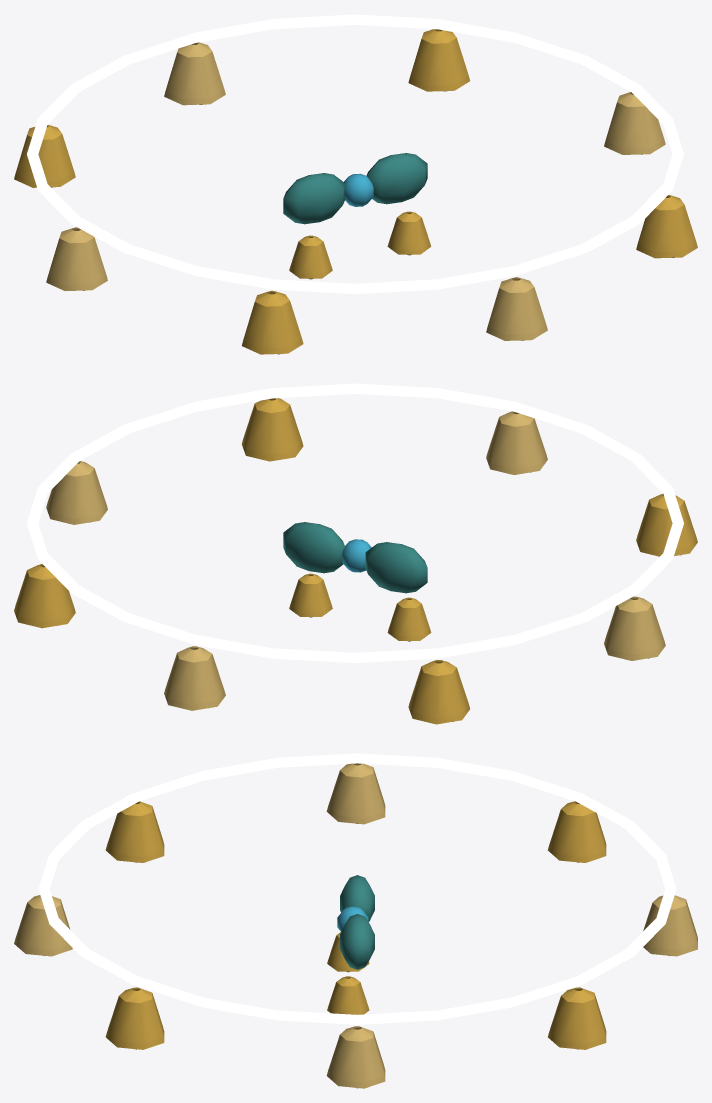
The model's file is suzu_p1.glb.
3 renders of one model, top to bottom at view 1: azimuth 30°, elevation 25°; view 2: azimuth 150°, elevation 25°; view 3: azimuth 270°, elevation 25°, orthographic. The views are drawn at different scales.
Visible parts, largest first — view 1: p1_bells_body, p1_bells_glow, p1_ribbons_body; view 2: p1_bells_body, p1_bells_glow, p1_ribbons_body; view 3: p1_bells_body, p1_bells_glow, p1_ribbons_body.
Part boxes in pixels (x1,y1,x2,y2): p1_bells_body: (14, 29, 697, 354); p1_bells_glow: (27, 14, 683, 294); p1_ribbons_body: (283, 153, 431, 279); p1_bells_body: (14, 398, 697, 724); p1_bells_glow: (27, 383, 683, 663); p1_ribbons_body: (283, 522, 431, 641); p1_bells_body: (14, 763, 697, 1088); p1_bells_glow: (38, 753, 676, 1024); p1_ribbons_body: (327, 875, 374, 1014).
Bounding box in the file's own units: 0.7455 × 0.1263 × 0.7439.
